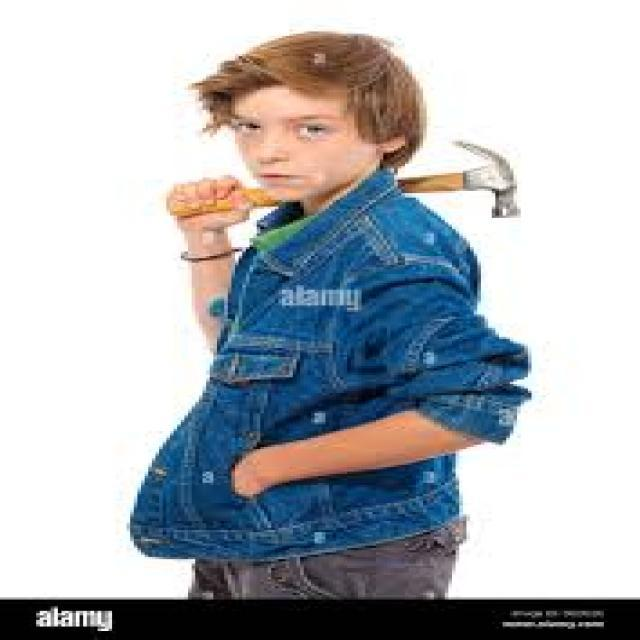hammer: (123, 132, 532, 242)
